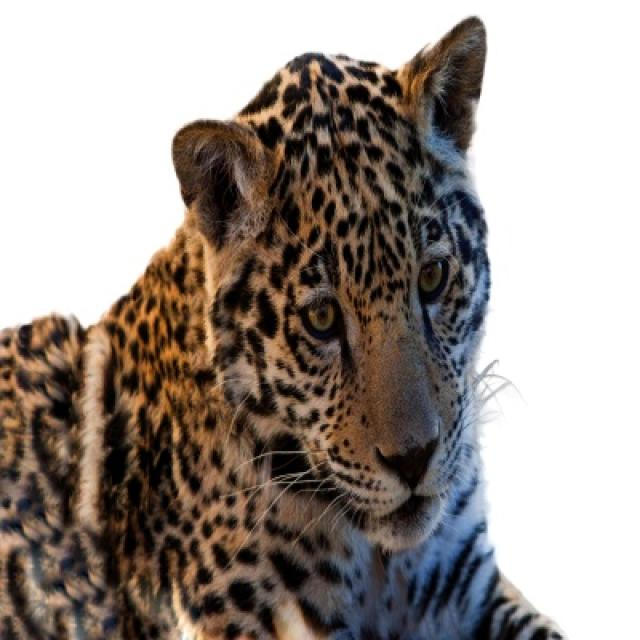Jaguar: (0, 16, 568, 638)
